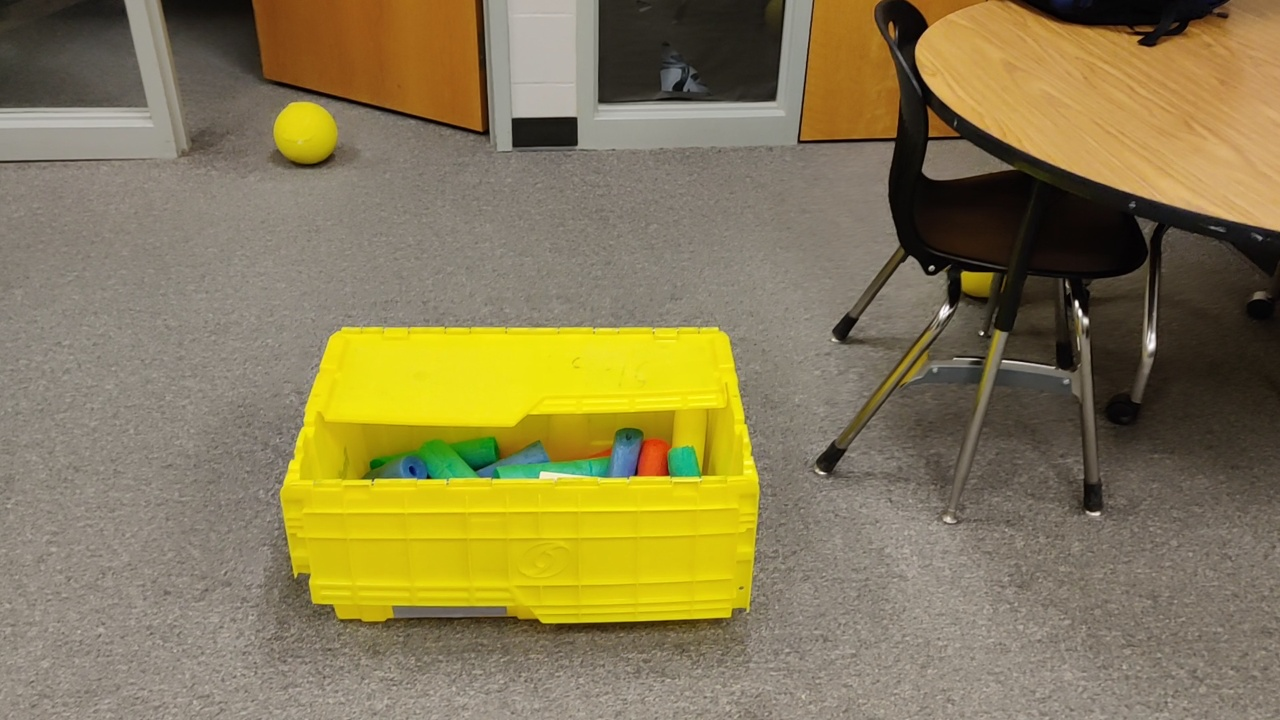Ball: (274, 102, 334, 166), (956, 266, 1011, 296)
